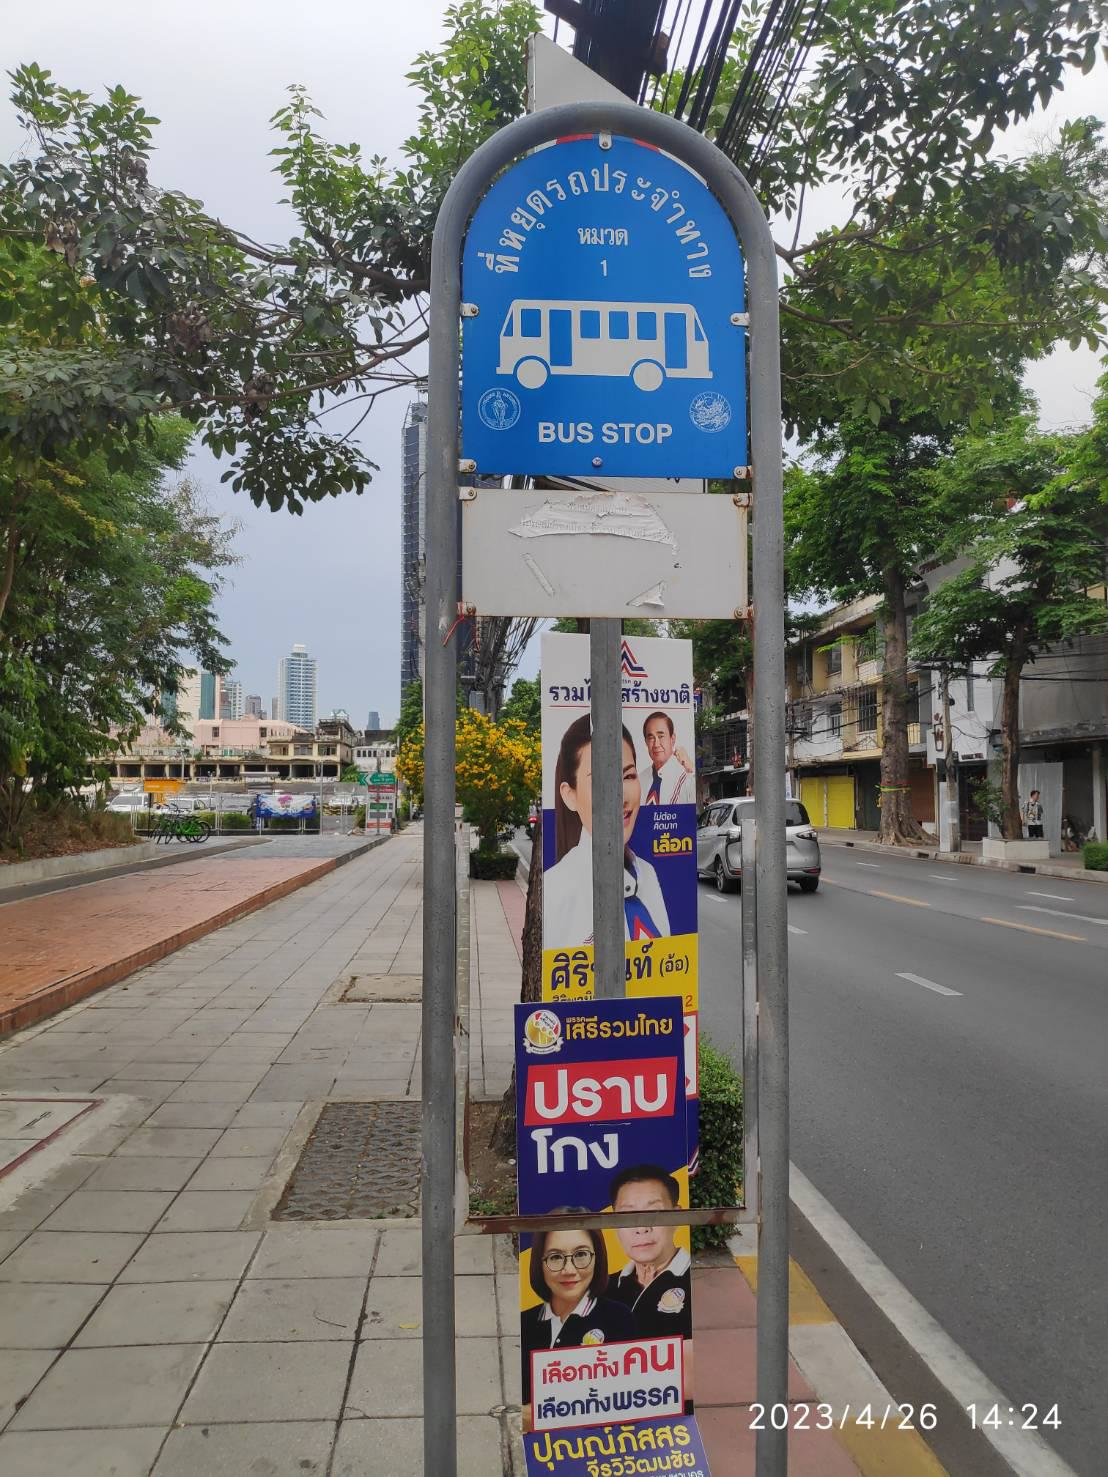Banner: (502, 1000, 709, 1477), (539, 630, 709, 1099)
